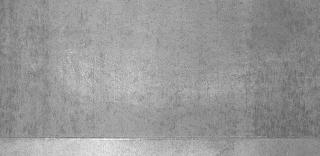welding line: (2, 134, 320, 146)
